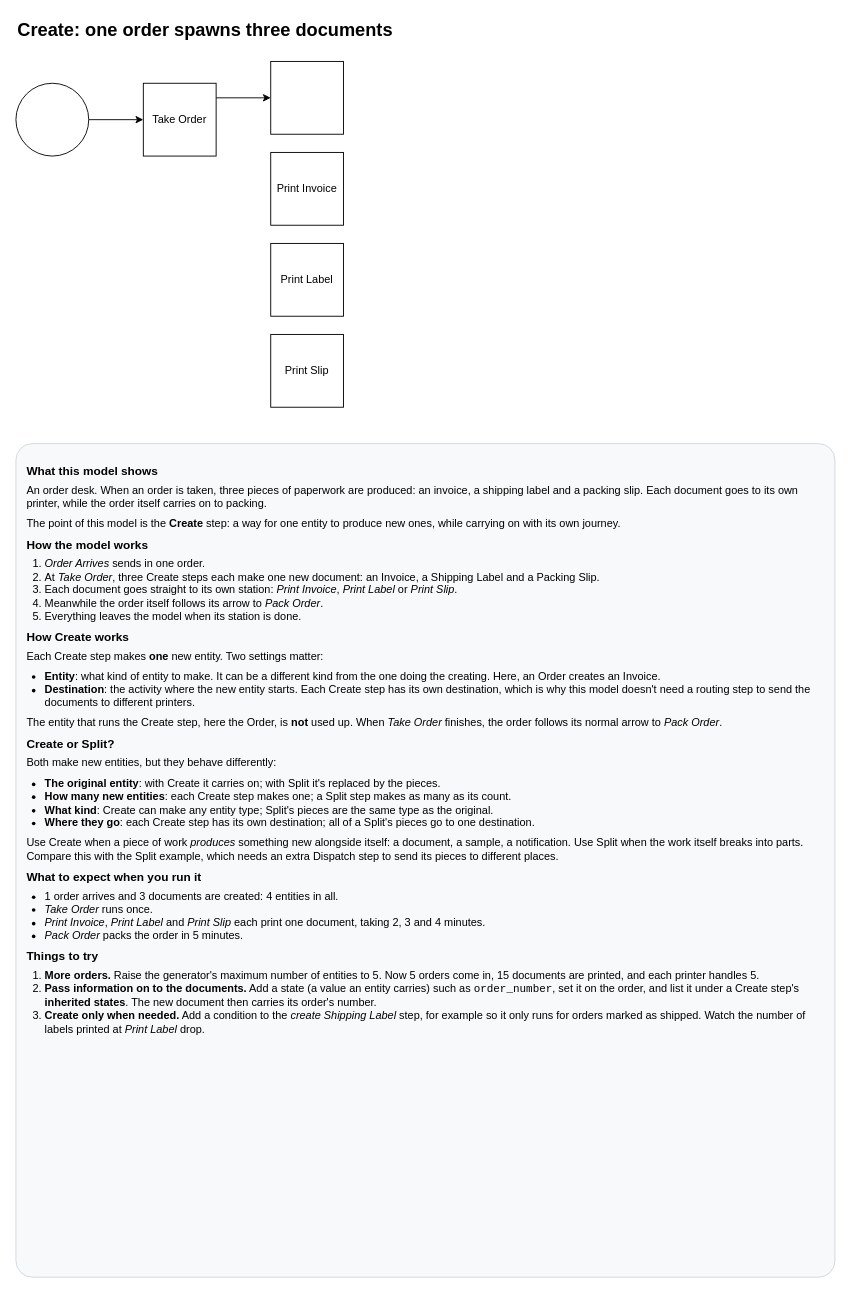
Image size: 851x1293. Some labels were removed from this diagram. Each missing label, with the centre of its shape:
"Order Arrives" belongs at [52,119].
"Pack Order" belongs at [307,97].
